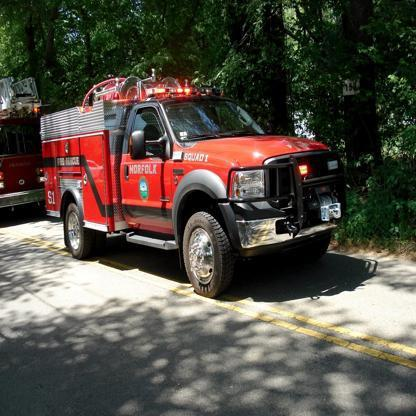fire-truck: (32, 31, 405, 287)
